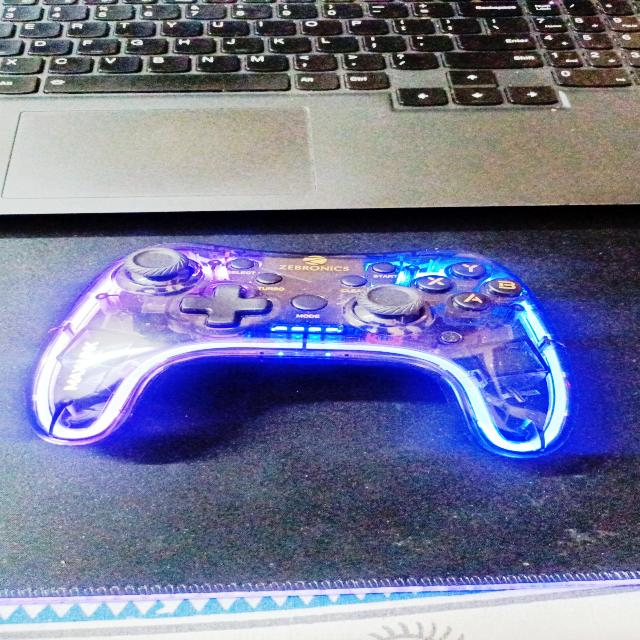gamepad: (24, 242, 579, 459)
